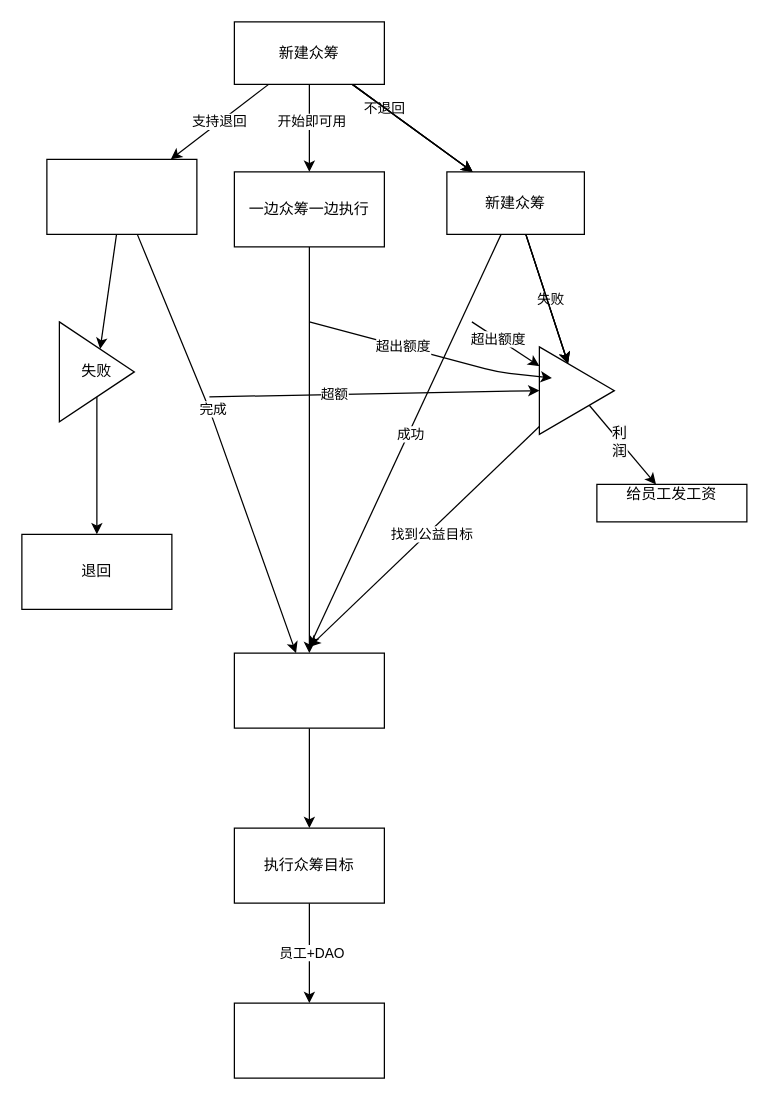
This 769x1100 diagram has some shape labels left out. Here are the shapes that lost their labels. From the top down, the centre of each, then its label:
At point (121, 196): "众筹".
At point (576, 390): "质押".
At point (308, 690): "DAO".
At point (308, 1040): "记录执行过程".
